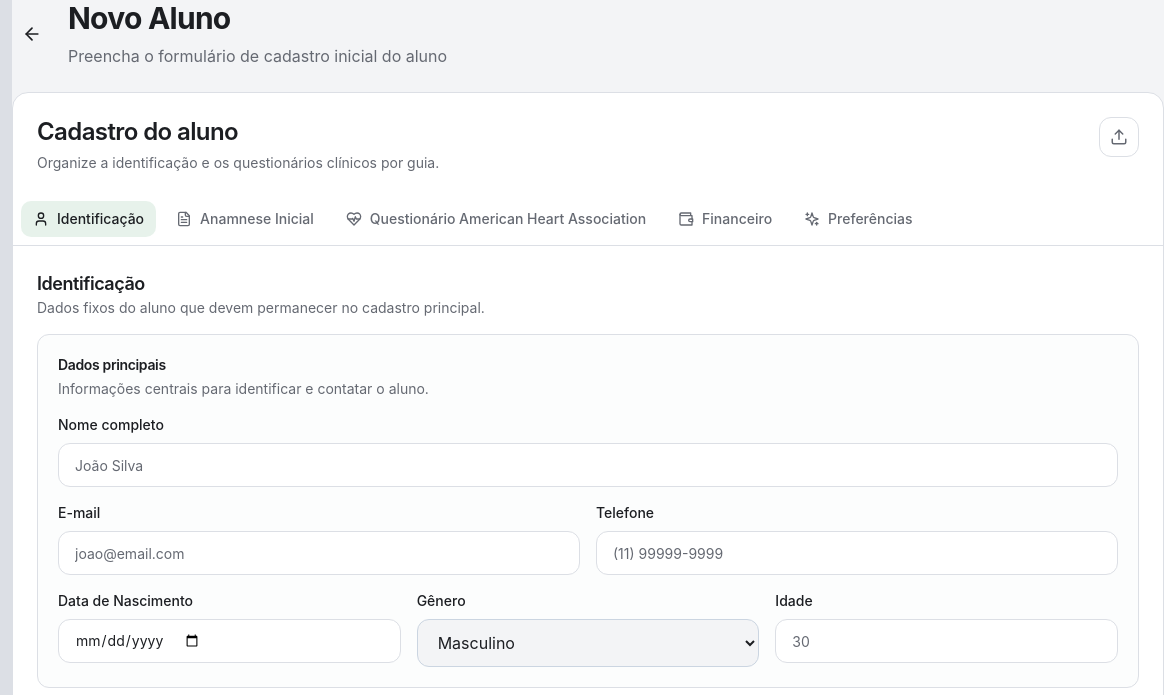
Test: AlunoForm assessment boundary behavior › aceita desconto com duas casas decimais digitado com vírgula e recalcula o valor
The width and height of the screenshot is (1164, 695).
Click the tab "Financeiro": (725, 219) [666,201,784,237]
(page scrolled)
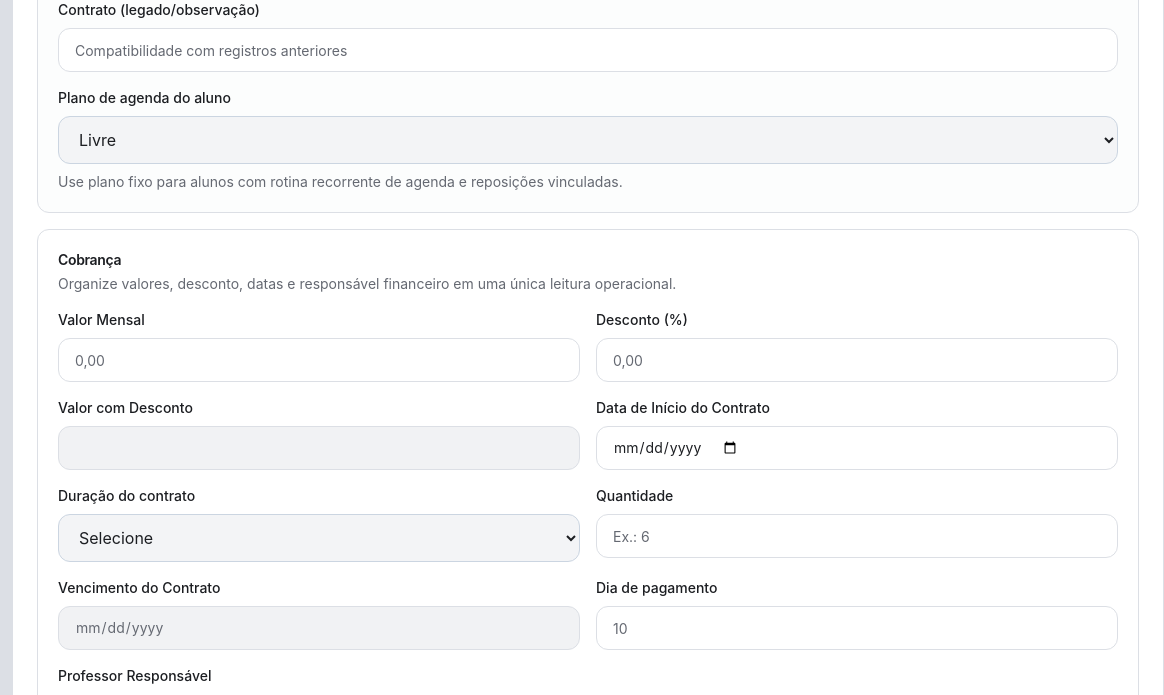
In the field labelled "Valor Mensal": (319, 360) [58,338,580,382], type "358,00"
(page scrolled)
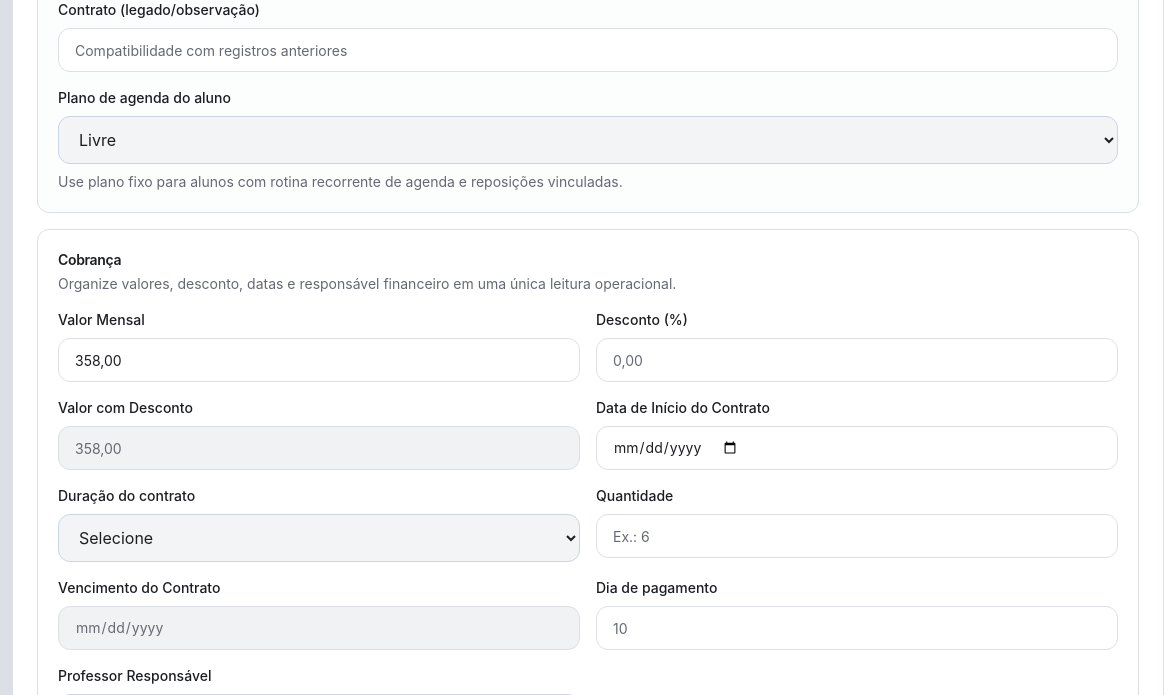
In the field labelled "Desconto (%)": (857, 360) [596,338,1118,382], type "16,45"
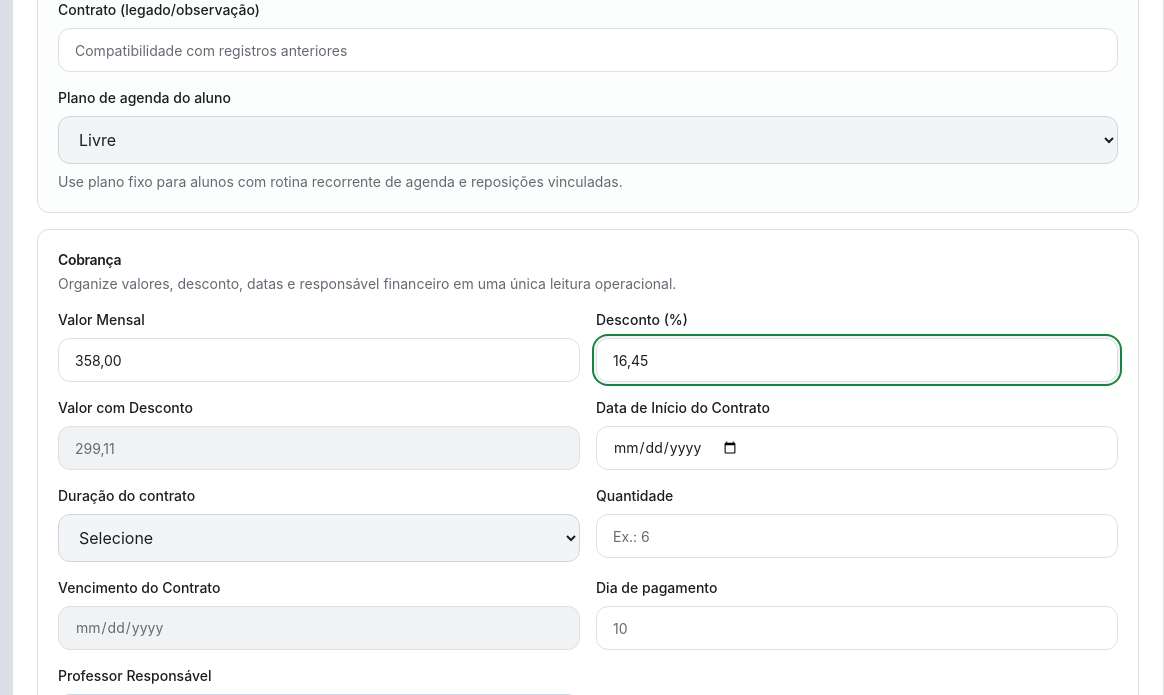
Now the field labelled "Valor com Desconto" holds "299,11", box [58,426,580,470]
